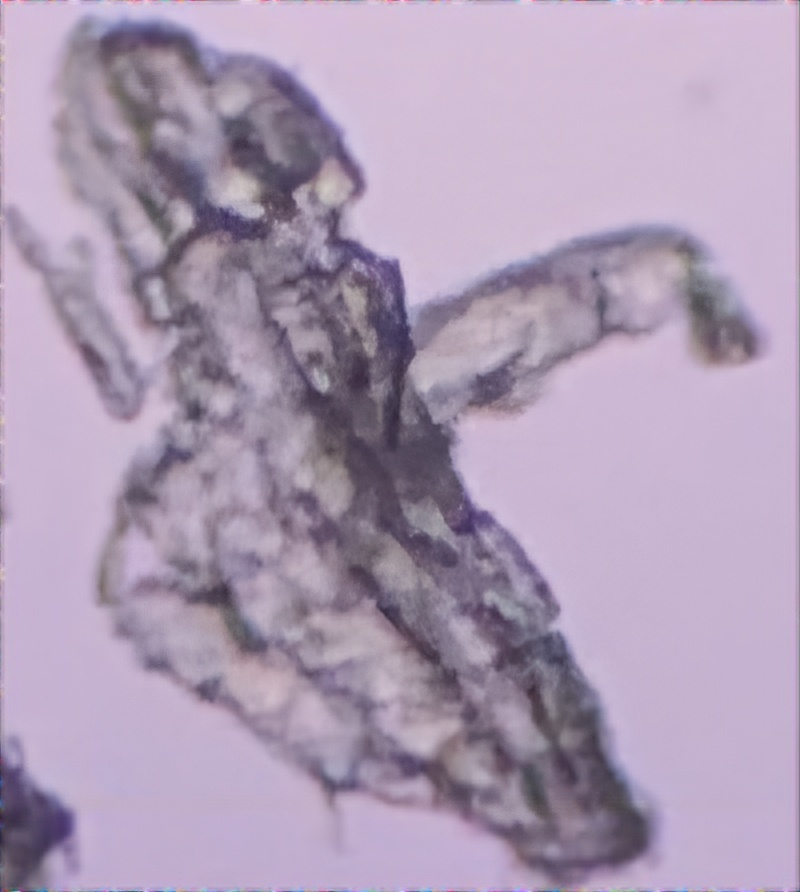microplastic: (10, 10, 768, 892)
